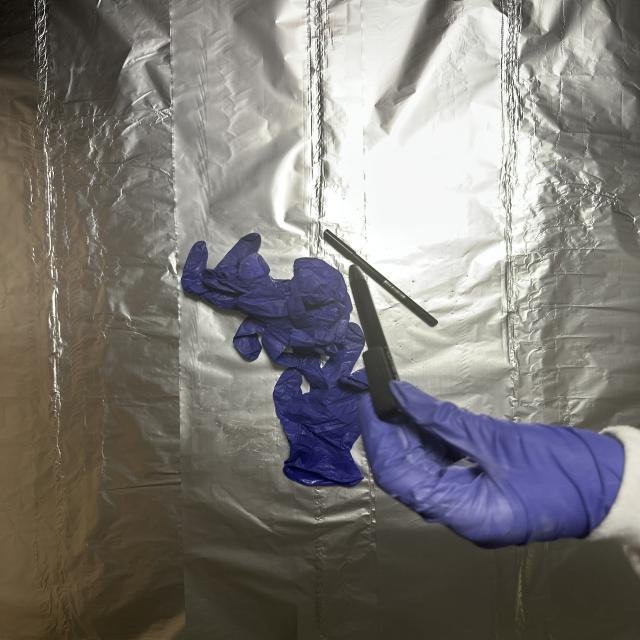gloves_contaminated: (359, 382, 625, 548)
